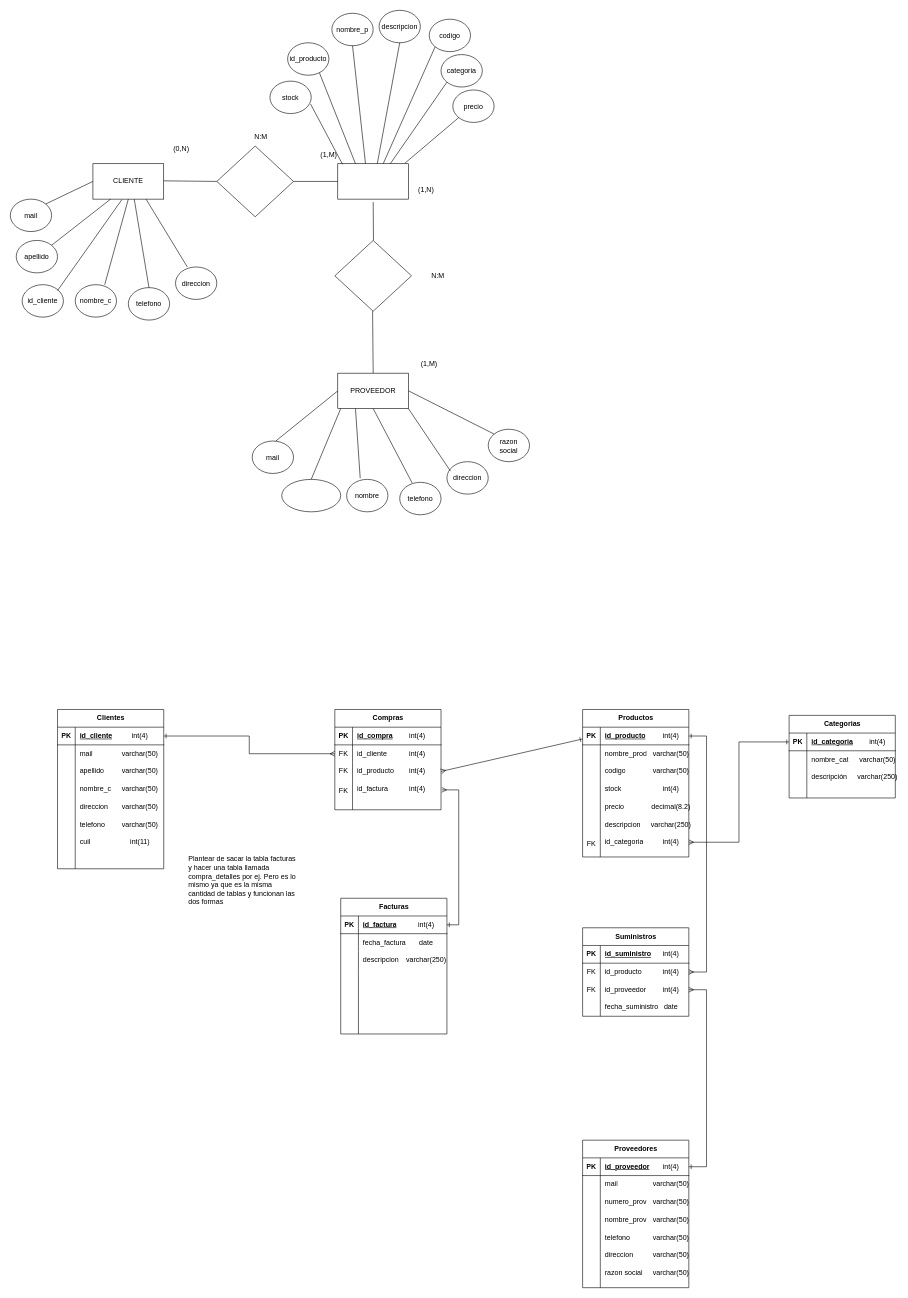
Image size: 908x1298. Some labels were removed from this diagram. The centre of each missing label's shape, as x and y in pixels:
"COMPRA" goes at [255,181].
"numero_proveedpr" goes at [311,495].
"PRODUCTO" goes at [373,181].
"SUMINTRA" goes at [373,275].
